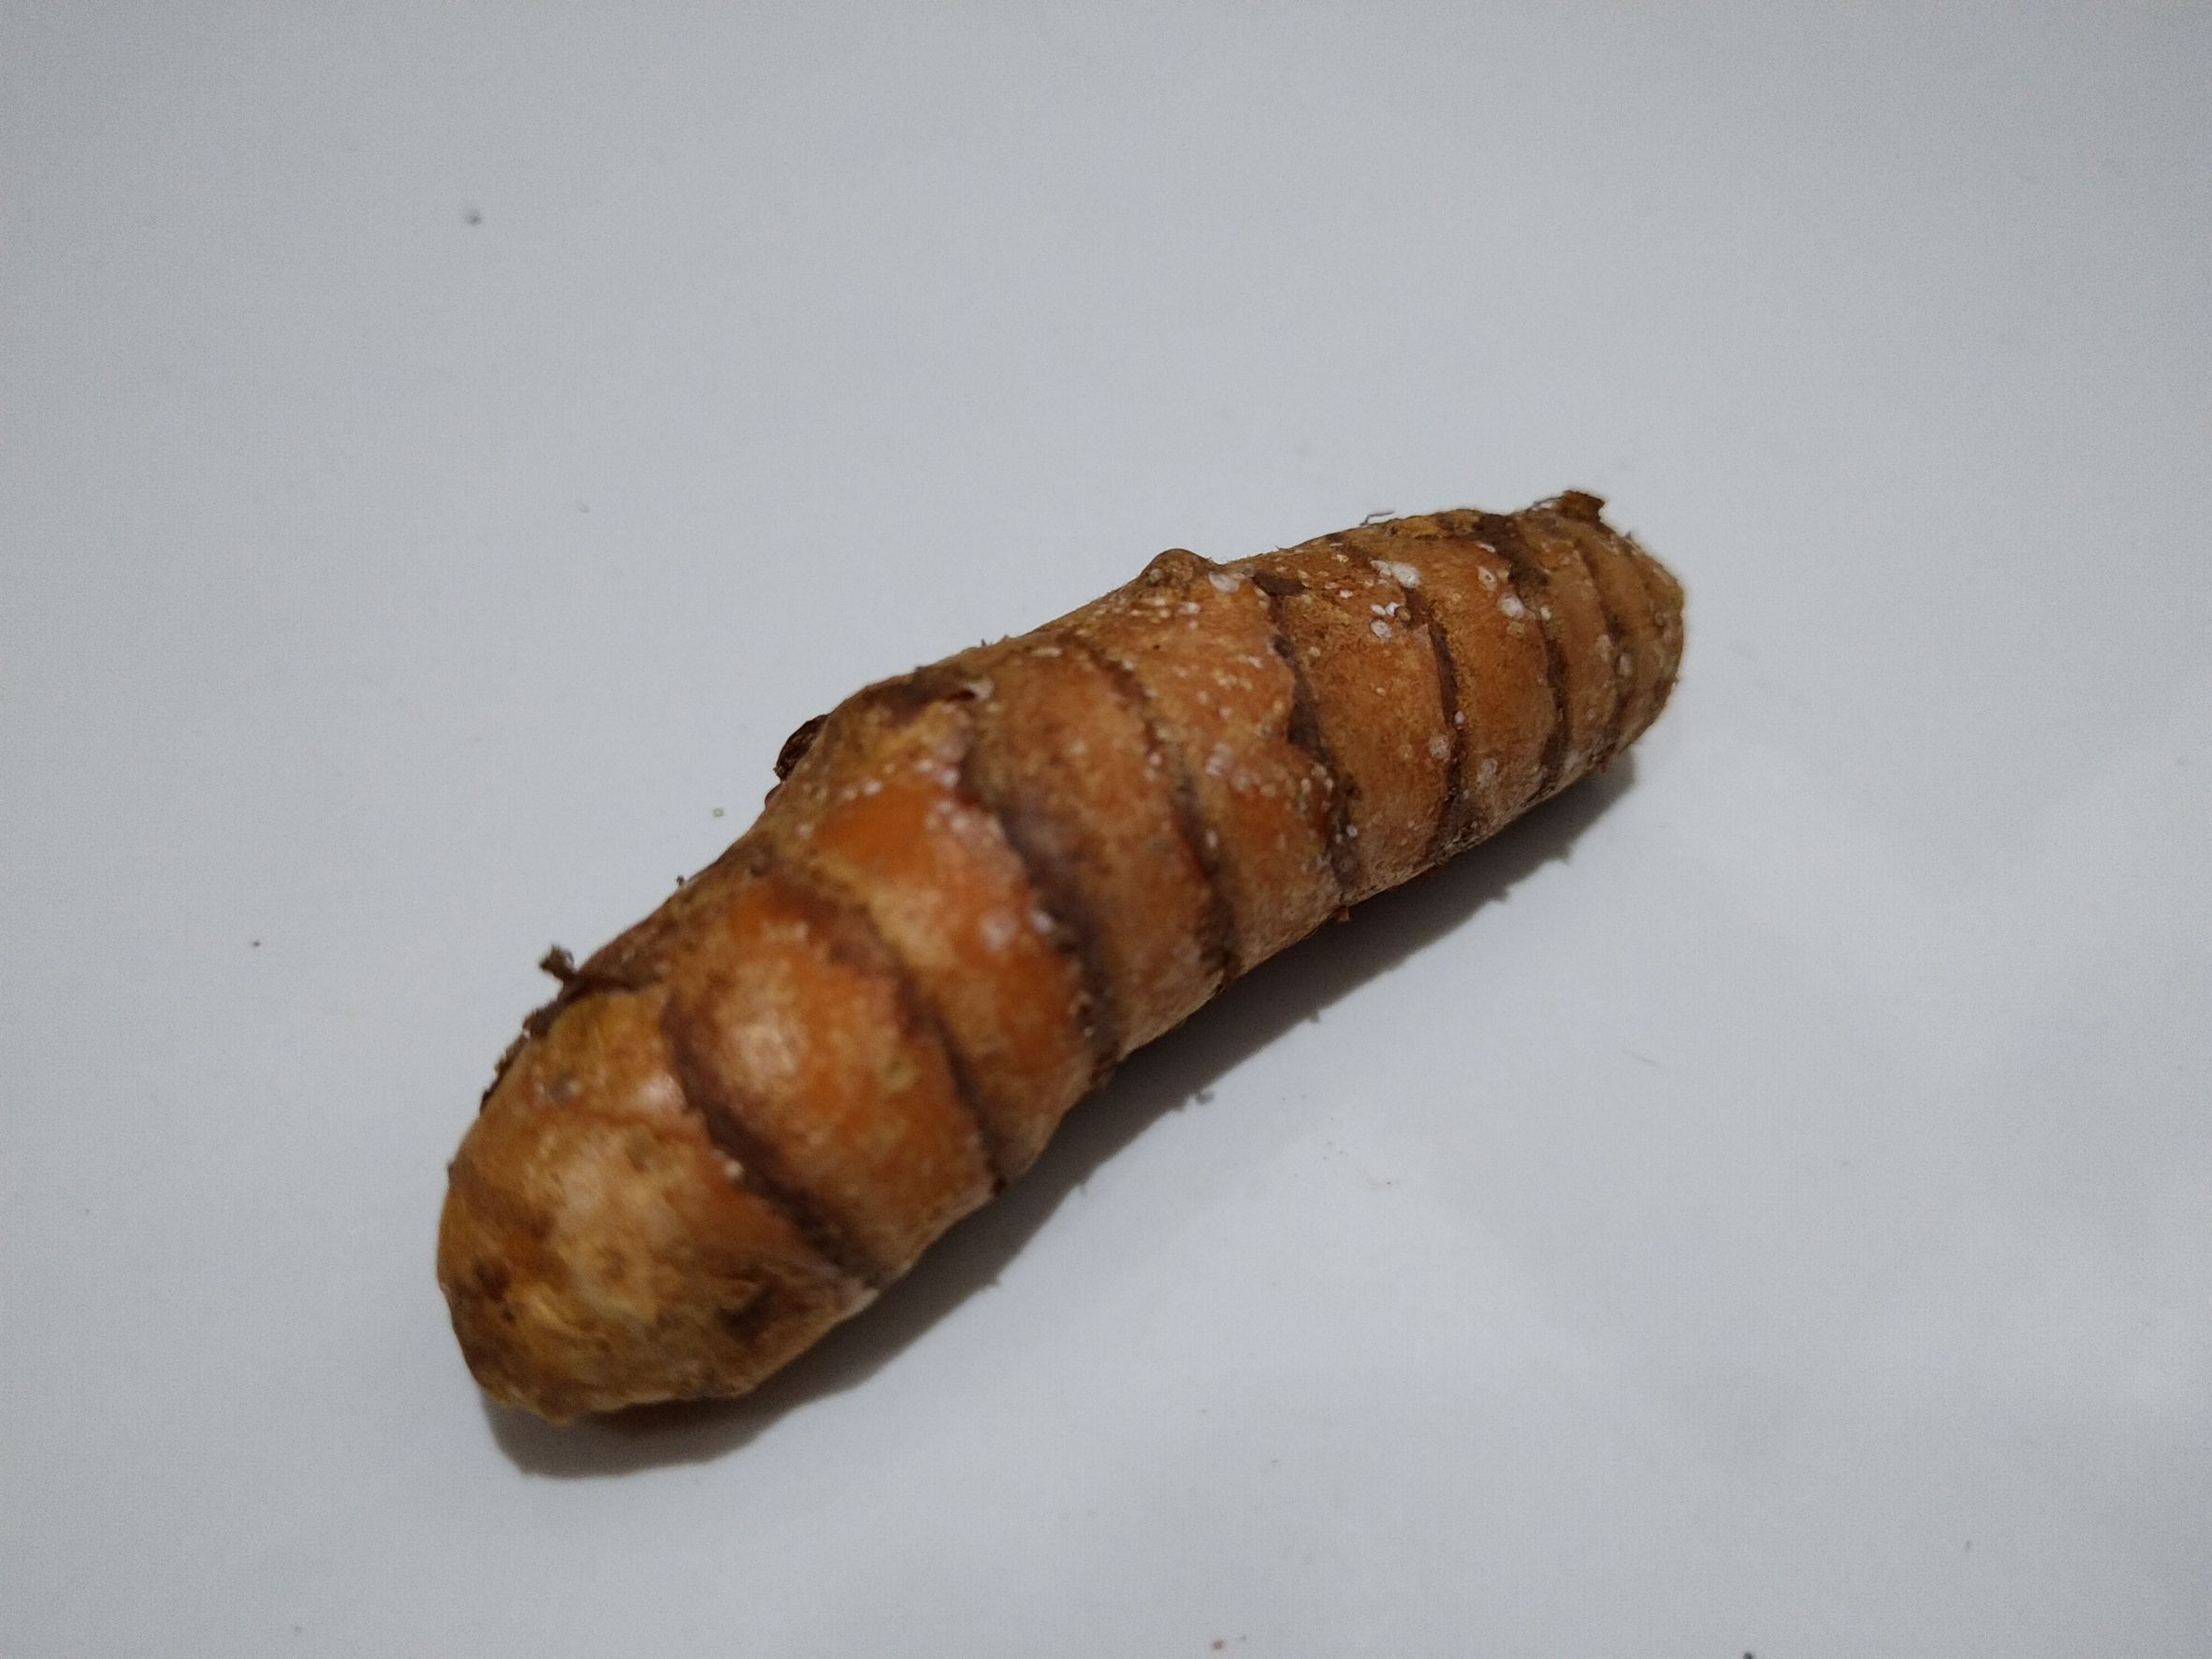Kunyit: (437, 505, 1649, 1427)
